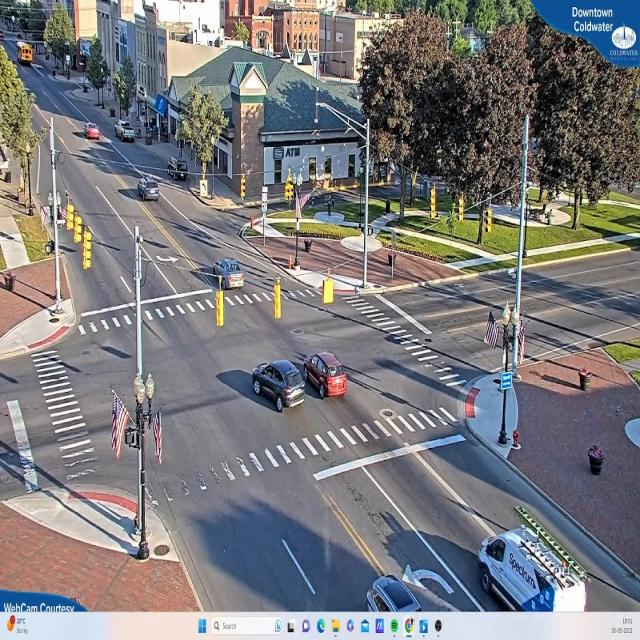car: (252, 358, 308, 412), (403, 563, 456, 608), (302, 351, 347, 401), (366, 576, 419, 615), (212, 251, 244, 290), (140, 176, 162, 203), (117, 120, 137, 144), (86, 123, 100, 140)
truck: (479, 526, 572, 610)
